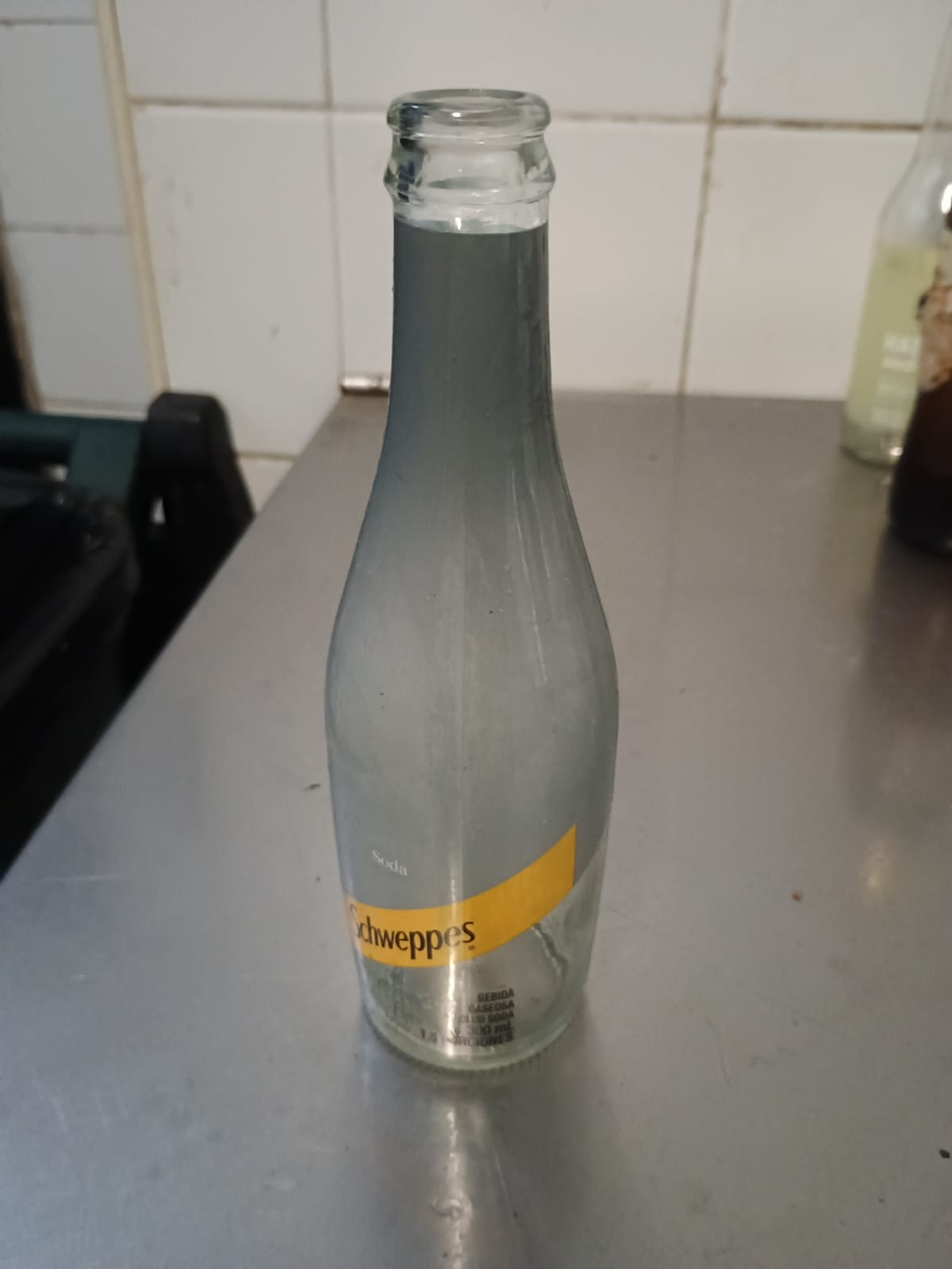Vidrio: (328, 88, 620, 1076)
